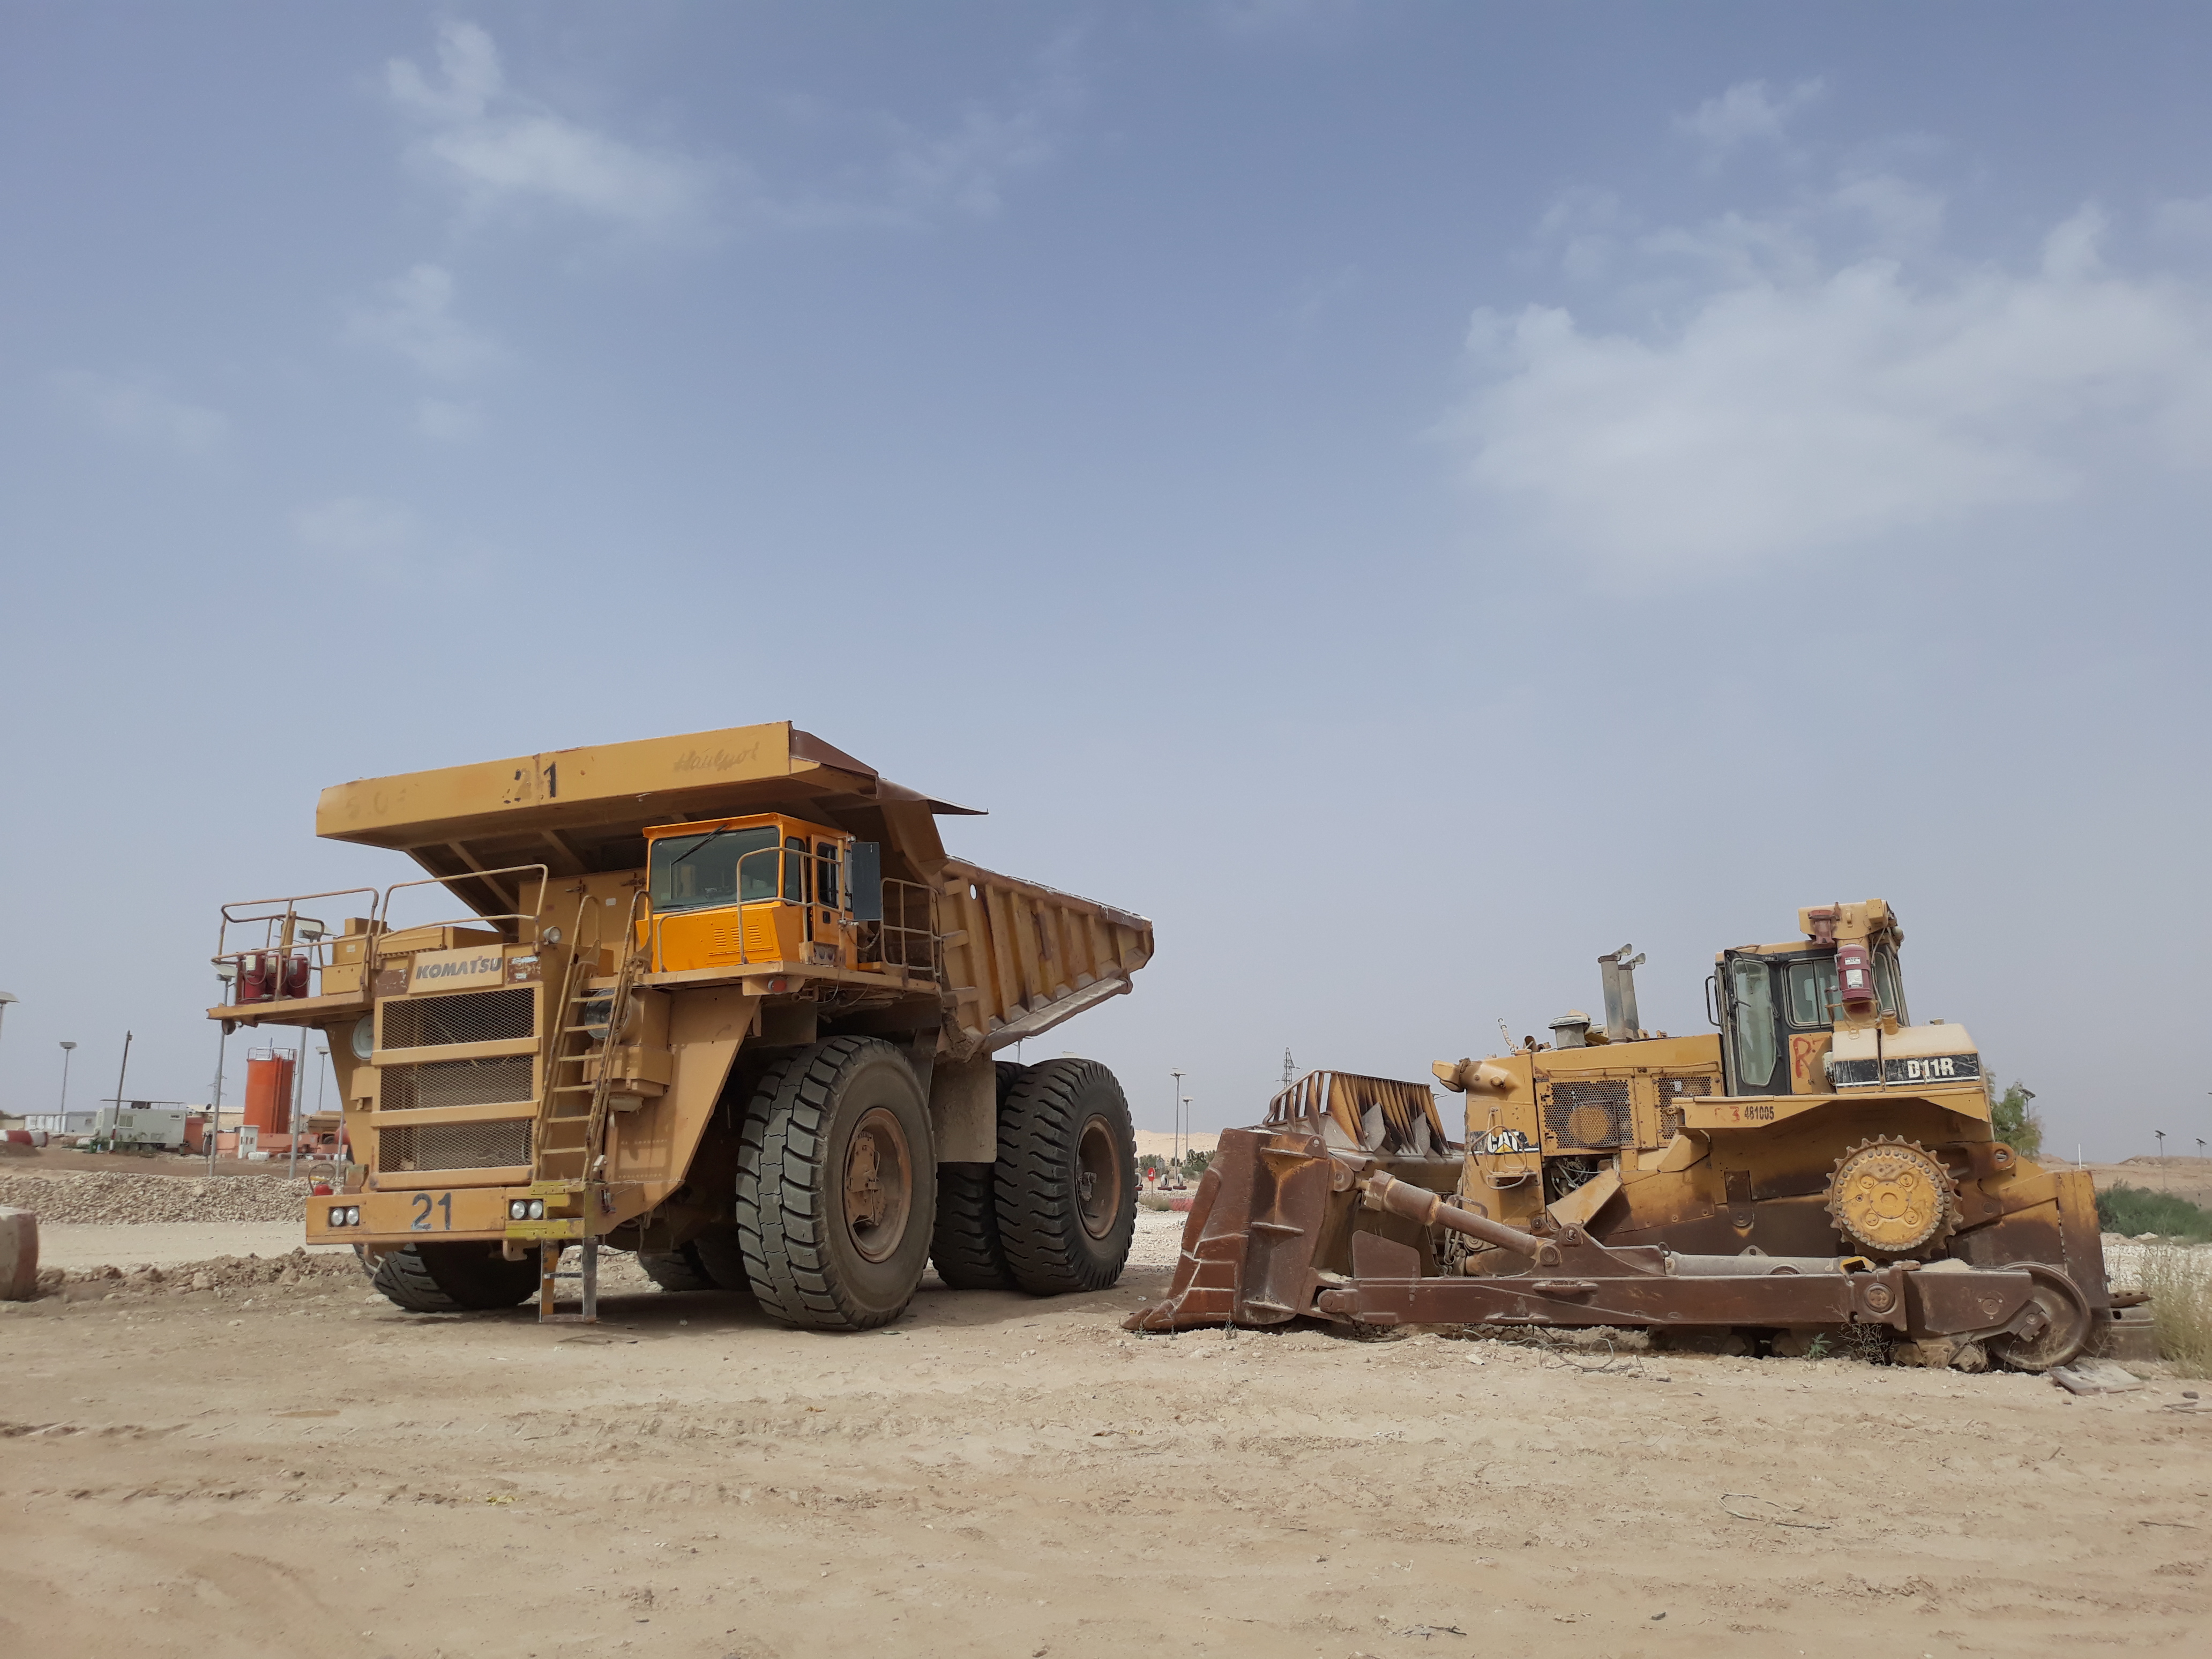bulldozer: (1118, 884, 2134, 1422)
camion: (226, 714, 1174, 1370)
